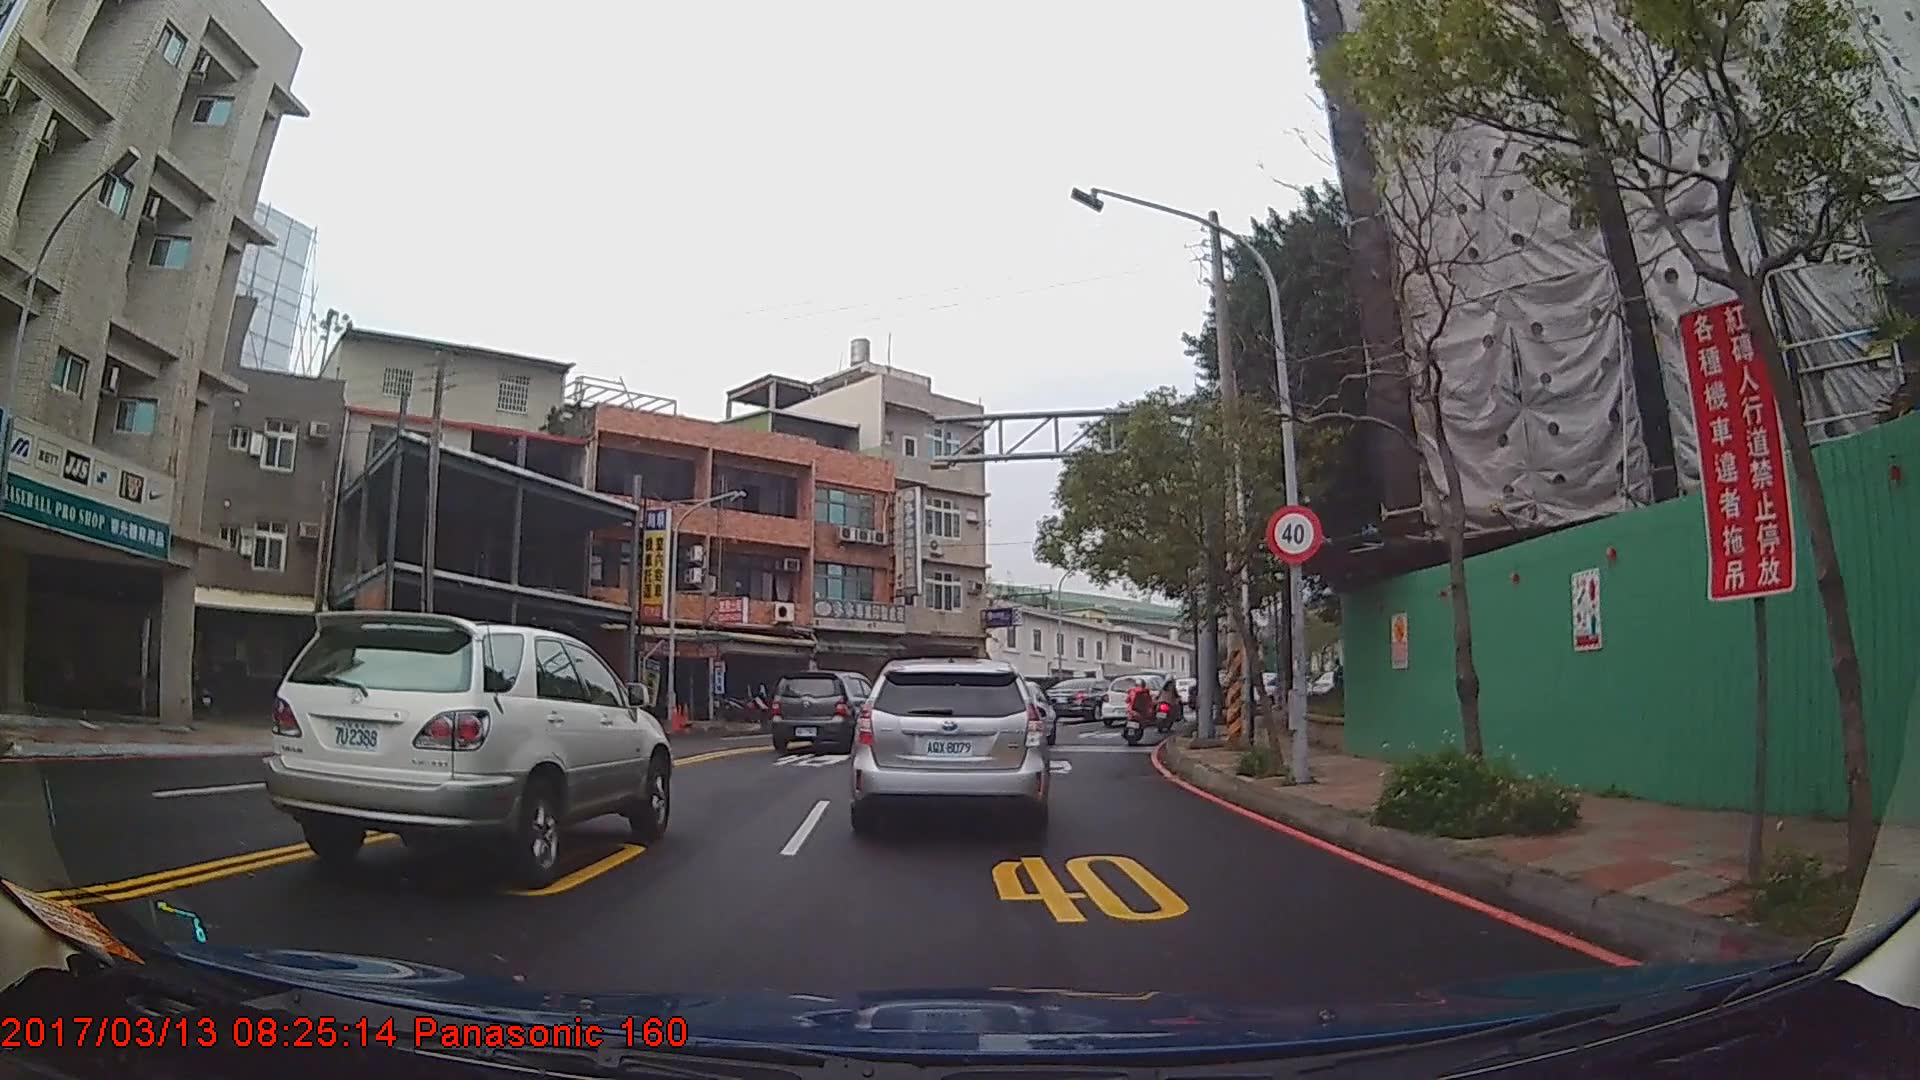rider: (1125, 680, 1153, 746), (1157, 674, 1182, 734)
vehicle: (260, 607, 670, 885), (850, 655, 1051, 840), (771, 669, 883, 753), (1048, 677, 1118, 723)
